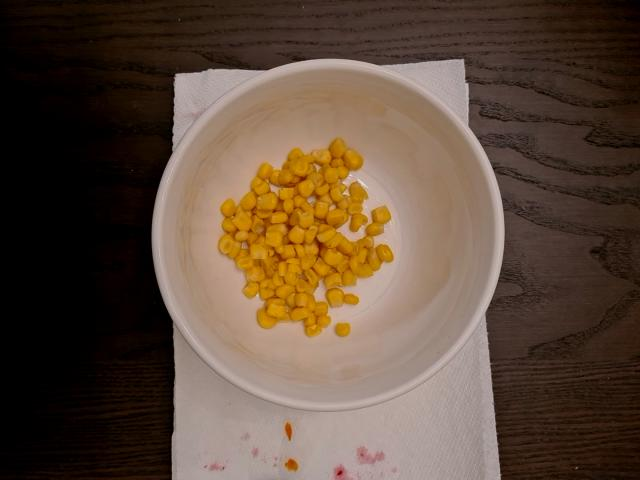kichen waste: (220, 138, 394, 337)
